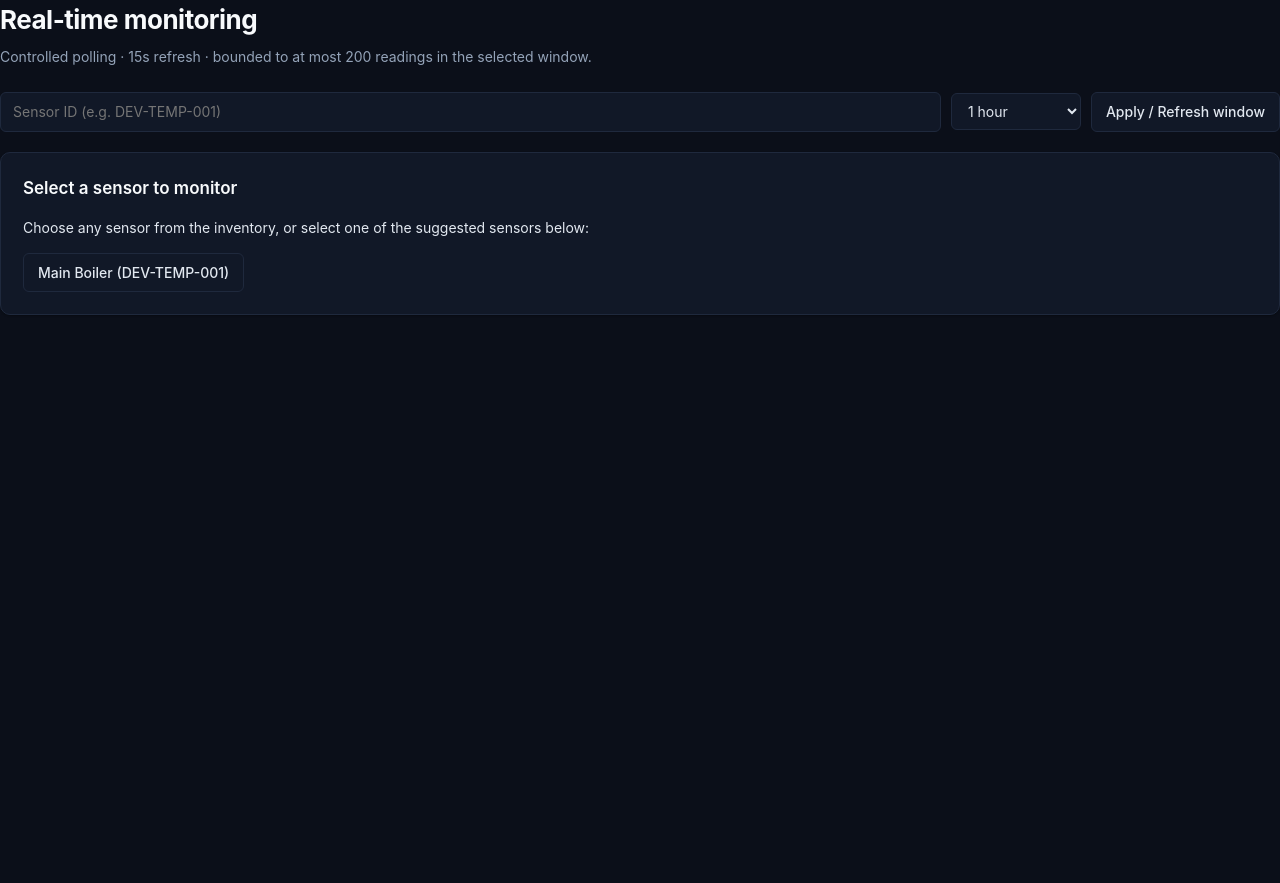
Scenario: dashboard › monitoring supports sensor selection and time window changes
expect the heading "Real-time monitoring" is shown: met, box [0, 4, 257, 35]
Click the button "Main Boiler (DEV-TEMP-001)" at coordinates (134, 273), box [23, 253, 244, 292]
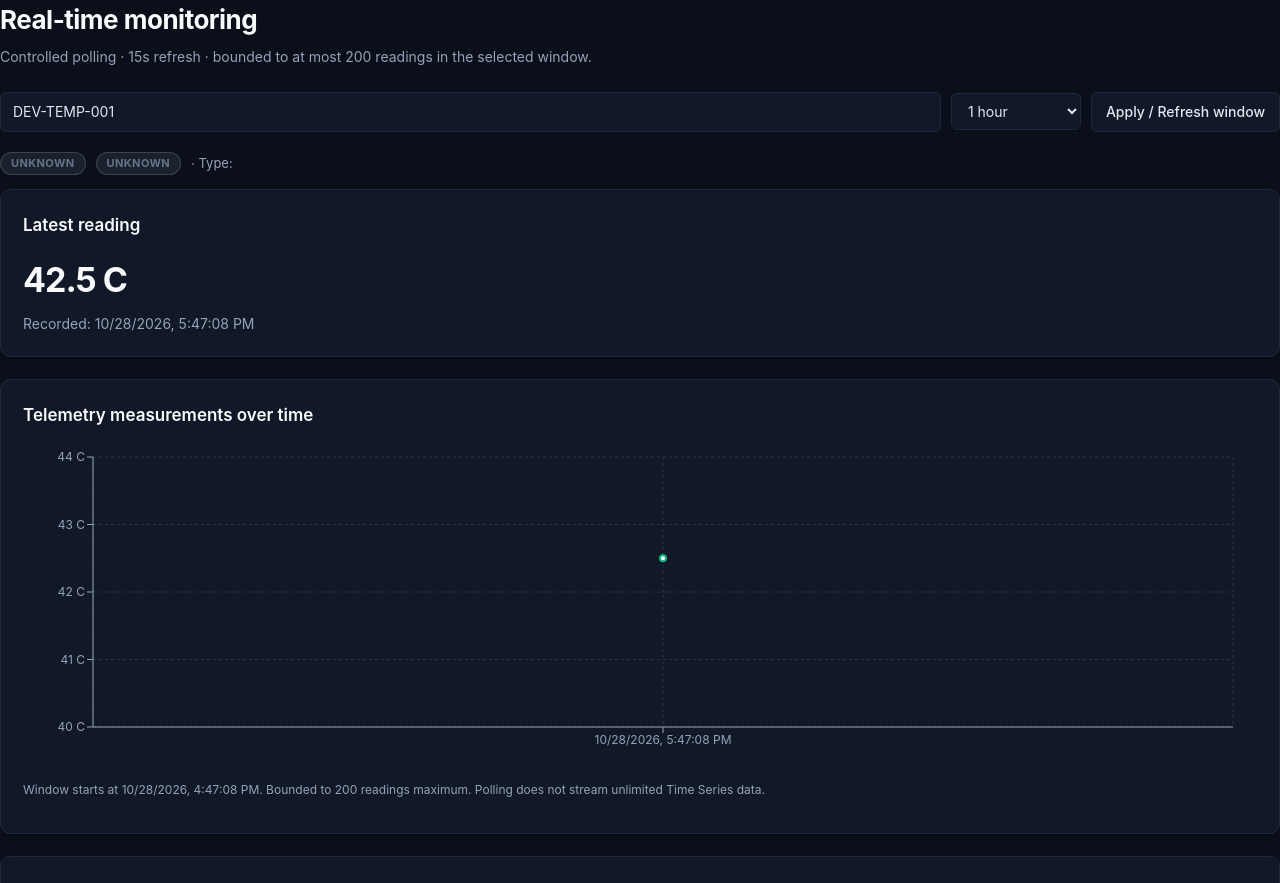
expect the text "42.5 C" is shown: met, box [23, 259, 127, 300]
